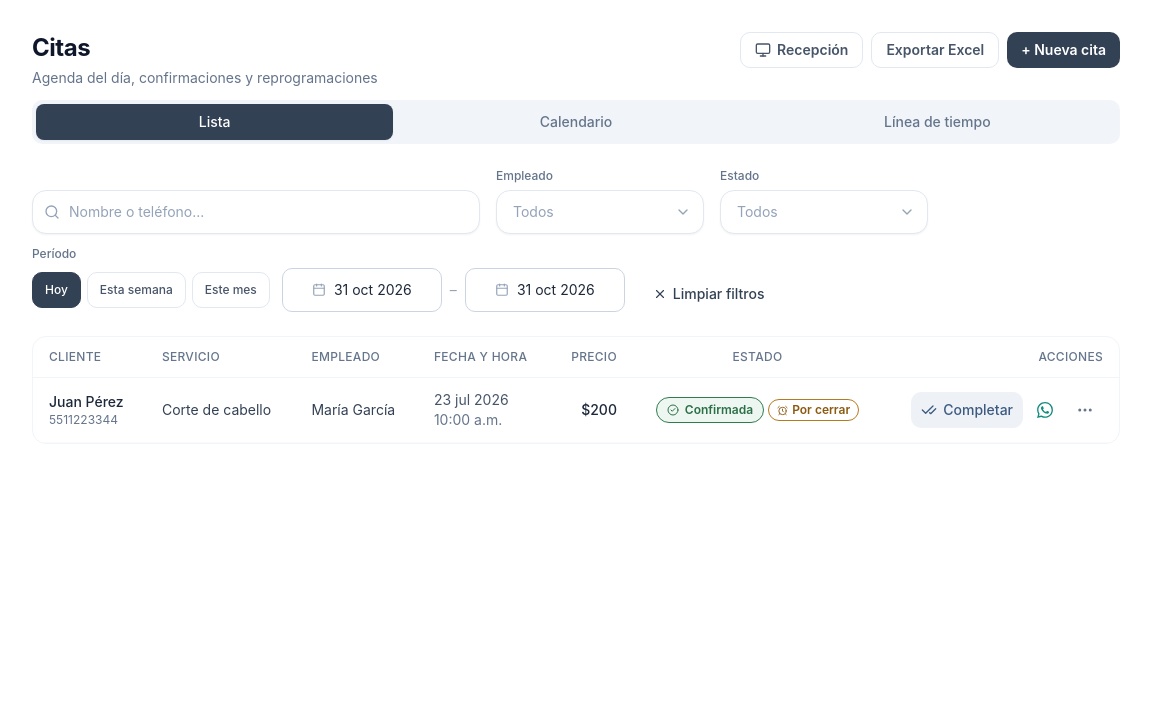
CitasPage — botones de acción en filas › las demás acciones de la fila viven en la hoja con texto
Click the button named "Acciones de la cita de Juan Pérez" at (1085, 410), box [1067,392,1103,428]
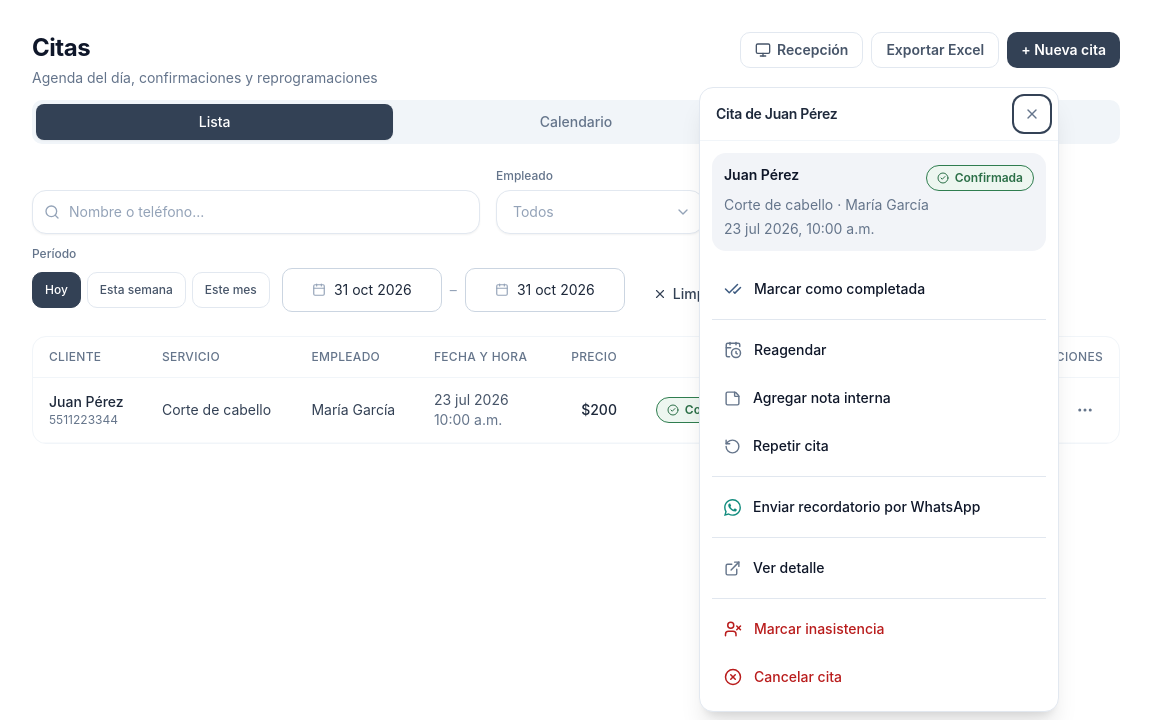
Expected: the button "Agregar nota interna" is shown, [712,376,1046,420]
Expected: the button "Repetir cita" is shown, [712,424,1046,468]
Expected: the button "Marcar inasistencia" is shown, [712,607,1046,651]
